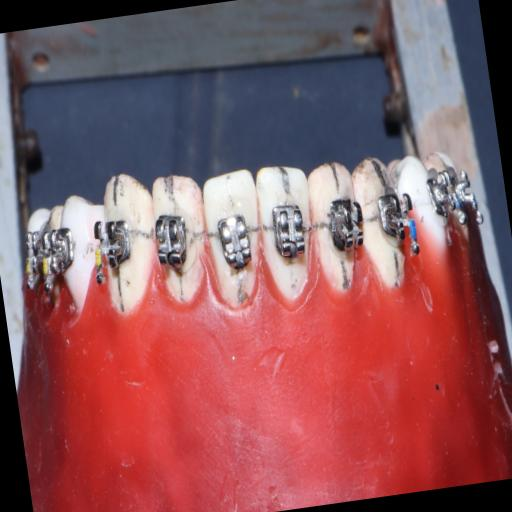correct_brace: (270, 195, 312, 262)
incorrect_brace: (214, 202, 257, 275)
